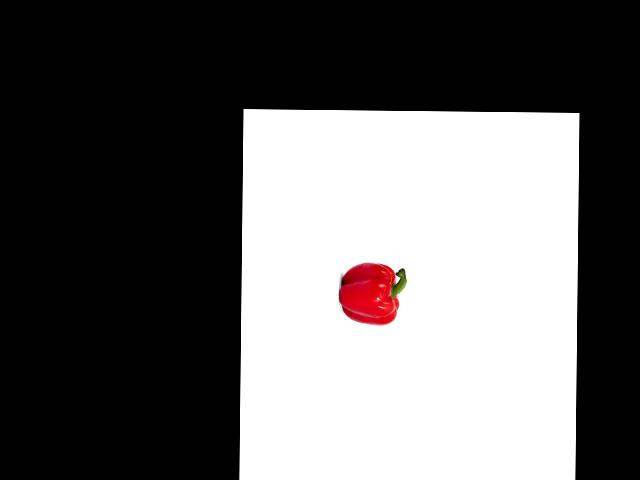bell_pepper: (339, 260, 408, 329)
